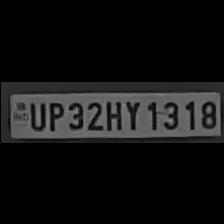1: (179, 97, 197, 129), (141, 98, 158, 130)
2: (84, 98, 103, 130)
3: (157, 96, 179, 130), (64, 97, 84, 128)
8: (197, 96, 217, 128)
H: (104, 96, 122, 130)
P: (45, 98, 63, 130)
U: (24, 98, 43, 130)
Y: (122, 96, 142, 130)
